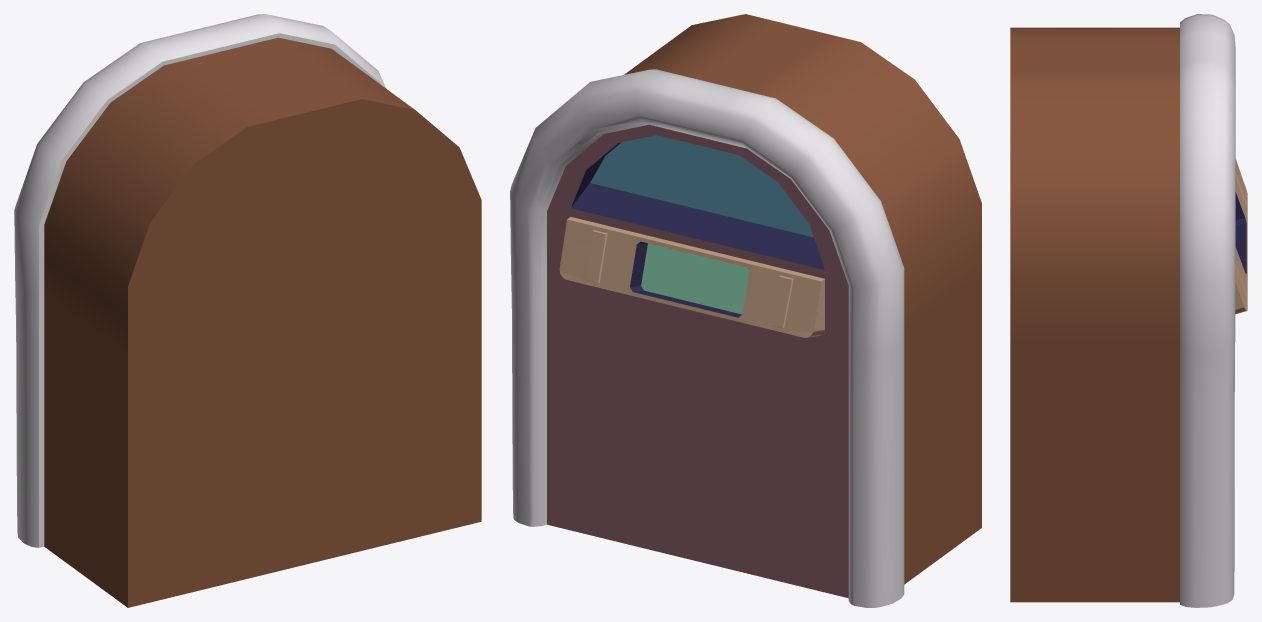
File: Jukebox.fbx
3 renders of one model, left to right at view 1: azimuth 30°, elevation 25°; view 2: azimuth 150°, elevation 25°; view 3: azimuth 270°, elevation 25°, orthographic.
Visible parts, largest first — view 1: pCube519; view 2: pCube519; view 3: pCube519.
Boxes of the visible parts, <box> form: pCube519: <box>14,14,481,607</box>; pCube519: <box>510,14,981,607</box>; pCube519: <box>1010,14,1247,607</box>.
Bounding box in the file's own units: 1.58 × 1.84 × 0.8457.
